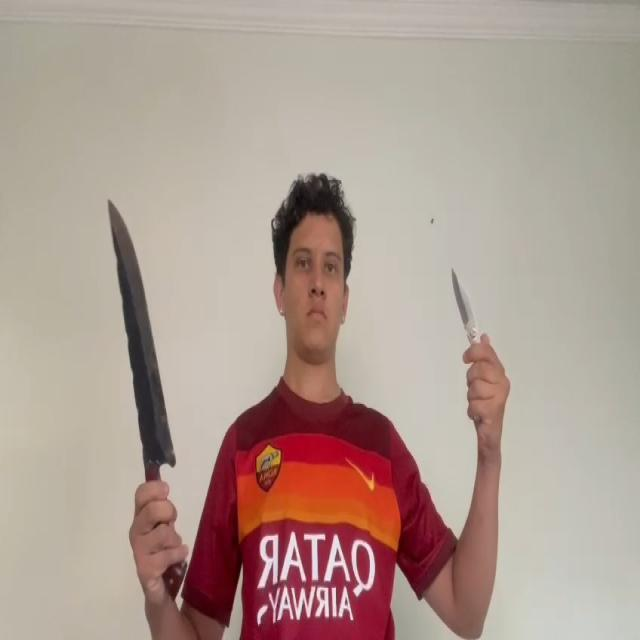knife: (108, 198, 177, 469), (450, 268, 478, 334)
